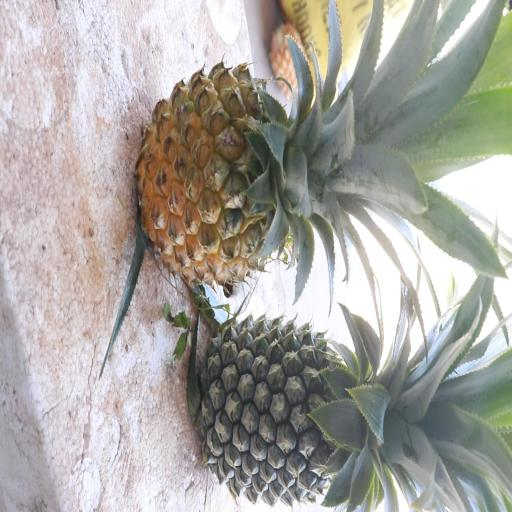Pineapple - v8 v1: (134, 35, 461, 305)
